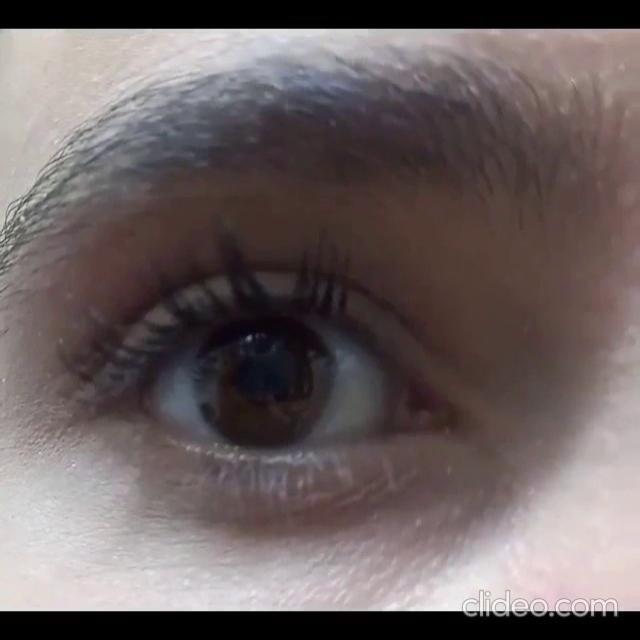iris: (194, 318, 333, 447)
pupille: (235, 353, 285, 397)
